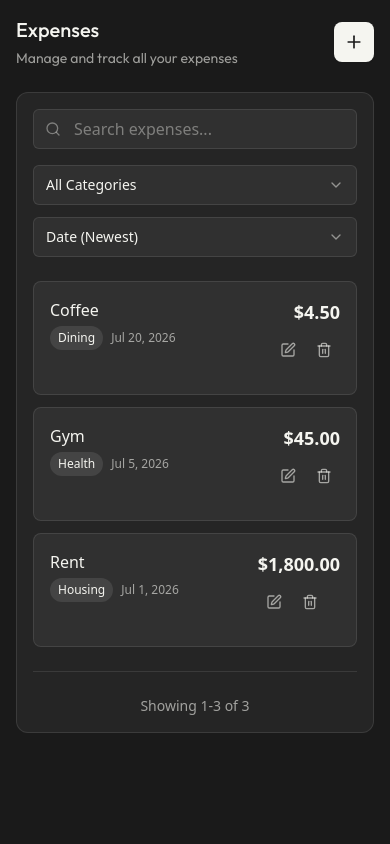
Scenario: ExpensesPage - one delete confirmation, scoped to its row › scopes the mobile card control to its own row too
The image size is (390, 844).
Later steps or results of the test are not shown.
Click the button named "Delete Gym": (324, 476) [308,460,340,492]
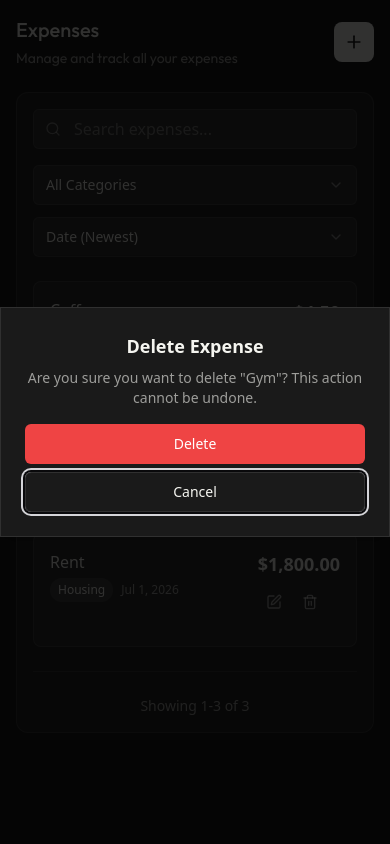
expect the number of dialogs is 1: met, box [0,307,389,537]
expect the text "\"Gym\"" is shown: met, box [28,368,362,407]
